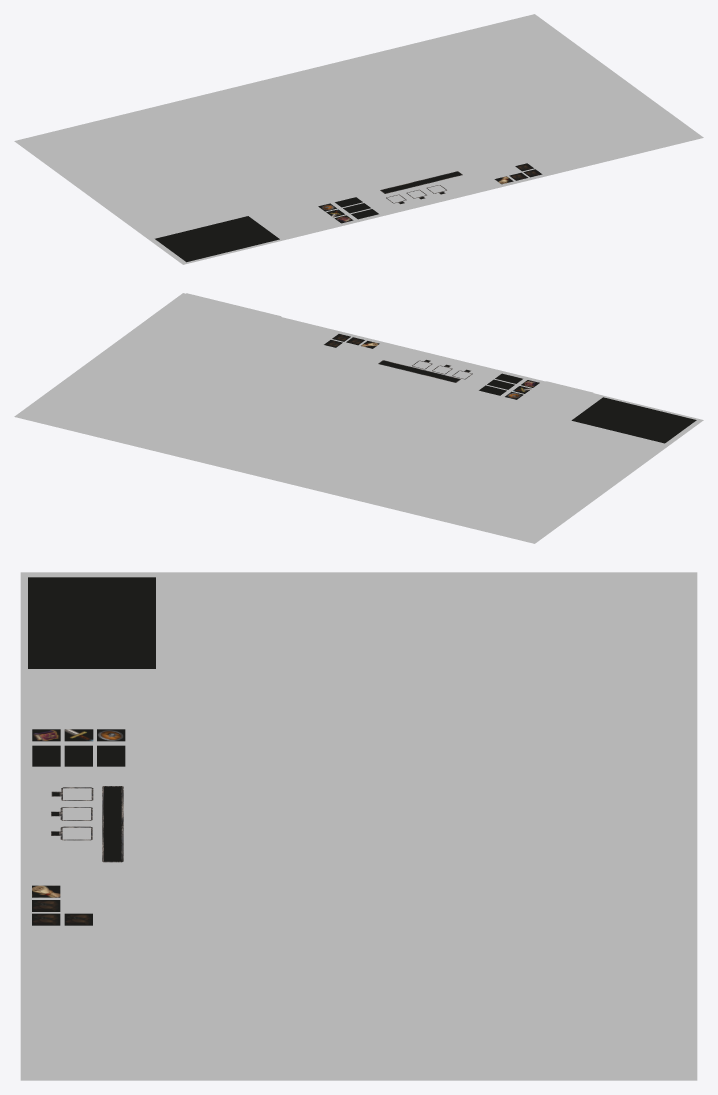
File: Interface.fbx
The picture shows the model from 3 angles, top to bottom: view 1: azimuth 30°, elevation 25°; view 2: azimuth 150°, elevation 25°; view 3: azimuth 270°, elevation 25°; orthographic projection. The views are drawn at different scales.
Parts seen in each view (by area): view 1: fond, Cadre, Minimap, Menu, Fenetre1, Fenetre2, Fenetre3, Bar1; view 2: fond, Cadre, Minimap, Menu, Fenetre1, Fenetre2, Fenetre3, Bar1; view 3: fond, Cadre, Menu, Minimap, Fenetre1, Fenetre2, Fenetre3, Bar1.
Boxes of the visible parts, x1=… form: fond: x1=14, y1=14, x2=702, y2=264; Cadre: x1=147, y1=111, x2=703, y2=264; Minimap: x1=570, y1=112, x2=698, y2=159; Menu: x1=153, y1=215, x2=281, y2=262; Fenetre1: x1=315, y1=156, x2=545, y2=225; Fenetre2: x1=264, y1=205, x2=338, y2=235; Fenetre3: x1=521, y1=144, x2=592, y2=174; Bar1: x1=380, y1=171, x2=462, y2=193; fond: x1=14, y1=318, x2=667, y2=543; Cadre: x1=147, y1=293, x2=703, y2=446; Minimap: x1=153, y1=293, x2=281, y2=340; Menu: x1=570, y1=396, x2=697, y2=443; Fenetre1: x1=312, y1=332, x2=543, y2=401; Fenetre2: x1=520, y1=381, x2=593, y2=411; Fenetre3: x1=265, y1=321, x2=337, y2=350; Bar1: x1=378, y1=360, x2=460, y2=382; fond: x1=20, y1=572, x2=697, y2=1080; Cadre: x1=21, y1=572, x2=166, y2=1080; Menu: x1=24, y1=575, x2=159, y2=670; Minimap: x1=24, y1=979, x2=159, y2=1073; Fenetre1: x1=26, y1=724, x2=129, y2=927; Fenetre2: x1=25, y1=675, x2=131, y2=722; Fenetre3: x1=27, y1=928, x2=129, y2=973; Bar1: x1=102, y1=786, x2=123, y2=862.
Bounding box in the file's own units: 6773 × 21 × 3810.
